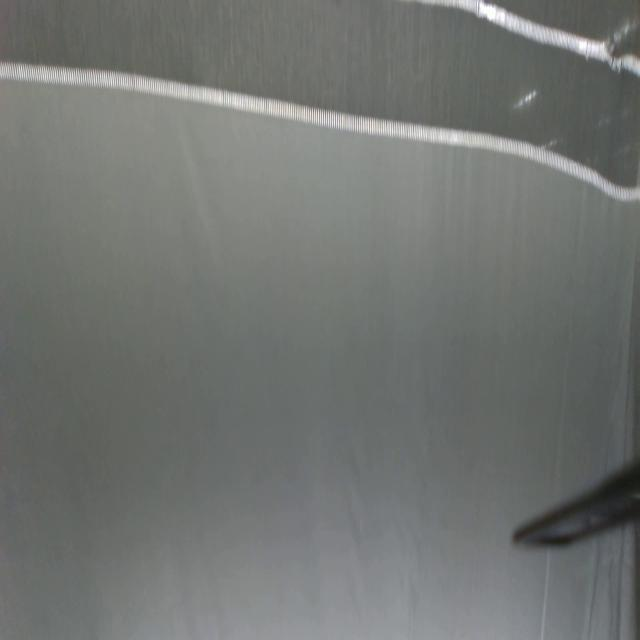crease: (538, 550, 552, 638)
